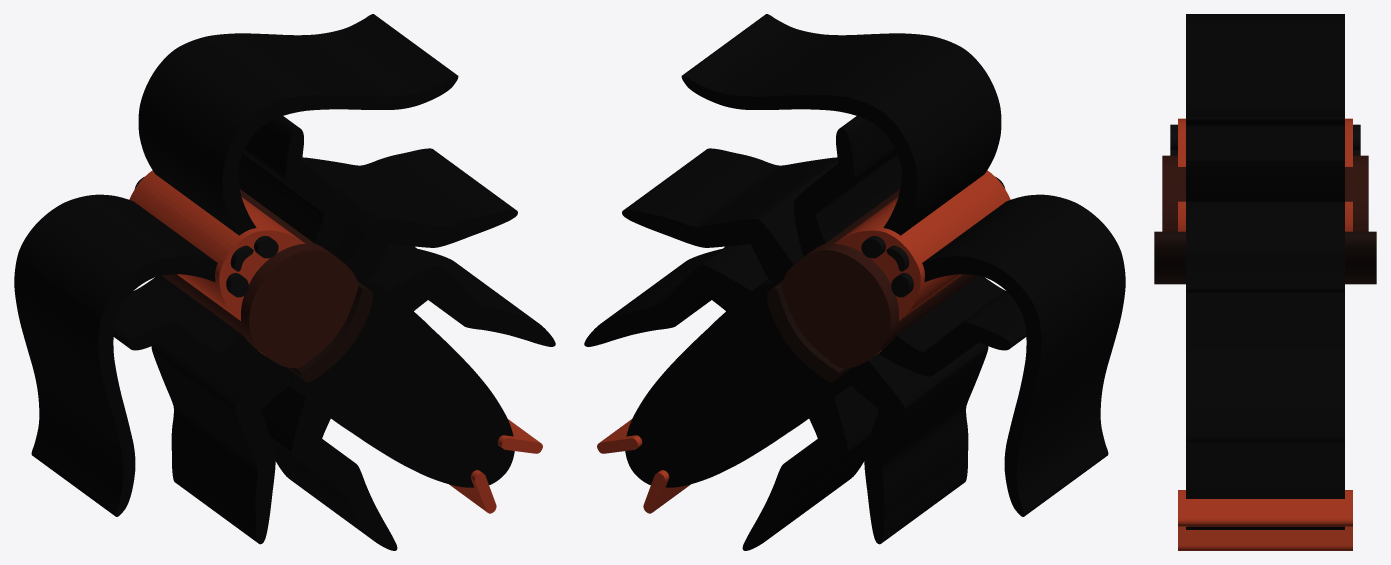
The model's file is U+1FAB3.obj.
3 views of the same model, side by side, from view 1: azimuth 30°, elevation 25°; view 2: azimuth 150°, elevation 25°; view 3: azimuth 270°, elevation 25° (orthographic). The views are drawn at different scales.
Visible parts, largest first — view 1: U+1FAB3_layer00_obj00, U+1FAB3_layer00_obj05, U+1FAB3_layer00_obj01, U+1FAB3_layer00_obj06, U+1FAB3_layer00_obj04, U+1FAB3_layer03_obj00, U+1FAB3_layer01_obj00, U+1FAB3_layer04_obj00, U+1FAB3_layer00_obj02, U+1FAB3_layer00_obj03, U+1FAB3_layer01_obj04, U+1FAB3_layer01_obj02; view 2: U+1FAB3_layer00_obj00, U+1FAB3_layer00_obj05, U+1FAB3_layer00_obj01, U+1FAB3_layer00_obj06, U+1FAB3_layer00_obj04, U+1FAB3_layer03_obj00, U+1FAB3_layer01_obj00, U+1FAB3_layer04_obj00, U+1FAB3_layer00_obj02, U+1FAB3_layer00_obj03, U+1FAB3_layer01_obj04, U+1FAB3_layer01_obj02; view 3: U+1FAB3_layer00_obj01, U+1FAB3_layer00_obj06, U+1FAB3_layer00_obj04, U+1FAB3_layer01_obj02, U+1FAB3_layer01_obj04, U+1FAB3_layer04_obj00, U+1FAB3_layer03_obj00, U+1FAB3_layer01_obj00, U+1FAB3_layer01_obj03, U+1FAB3_layer02_obj01.
Part boxes in pixels (x1,y1,x2,y2): U+1FAB3_layer00_obj00: [113, 275, 397, 550]; U+1FAB3_layer00_obj05: [14, 194, 217, 516]; U+1FAB3_layer00_obj01: [238, 116, 555, 374]; U+1FAB3_layer00_obj06: [138, 14, 458, 235]; U+1FAB3_layer00_obj04: [289, 279, 514, 487]; U+1FAB3_layer03_obj00: [162, 189, 358, 367]; U+1FAB3_layer01_obj00: [129, 170, 305, 320]; U+1FAB3_layer04_obj00: [287, 280, 372, 382]; U+1FAB3_layer00_obj02: [370, 307, 453, 475]; U+1FAB3_layer00_obj03: [318, 373, 497, 419]; U+1FAB3_layer01_obj04: [449, 470, 496, 513]; U+1FAB3_layer01_obj02: [497, 419, 542, 453]; U+1FAB3_layer00_obj00: [742, 275, 1026, 550]; U+1FAB3_layer00_obj05: [922, 194, 1125, 516]; U+1FAB3_layer00_obj01: [584, 116, 901, 373]; U+1FAB3_layer00_obj06: [681, 14, 1001, 235]; U+1FAB3_layer00_obj04: [625, 279, 850, 487]; U+1FAB3_layer03_obj00: [781, 189, 977, 367]; U+1FAB3_layer01_obj00: [834, 170, 1010, 320]; U+1FAB3_layer04_obj00: [767, 280, 852, 382]; U+1FAB3_layer00_obj02: [686, 303, 771, 475]; U+1FAB3_layer00_obj03: [642, 371, 820, 419]; U+1FAB3_layer01_obj04: [643, 470, 690, 513]; U+1FAB3_layer01_obj02: [597, 419, 642, 453]; U+1FAB3_layer00_obj01: [1186, 126, 1344, 441]; U+1FAB3_layer00_obj06: [1186, 14, 1344, 126]; U+1FAB3_layer00_obj04: [1186, 442, 1344, 529]; U+1FAB3_layer01_obj02: [1178, 490, 1352, 526]; U+1FAB3_layer01_obj04: [1178, 526, 1352, 550]; U+1FAB3_layer04_obj00: [1154, 231, 1376, 284]; U+1FAB3_layer03_obj00: [1162, 155, 1368, 231]; U+1FAB3_layer01_obj00: [1178, 118, 1352, 166]; U+1FAB3_layer01_obj03: [1178, 201, 1352, 231]; U+1FAB3_layer02_obj01: [1170, 128, 1360, 150].
Bounding box in the file's own units: 0.315 × 0.3149 × 0.14.
